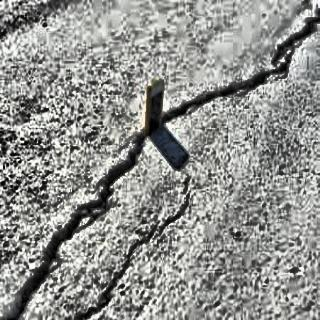crack: (84, 185, 192, 320), (0, 197, 85, 320), (80, 112, 174, 216), (157, 66, 291, 132), (276, 0, 320, 75)
